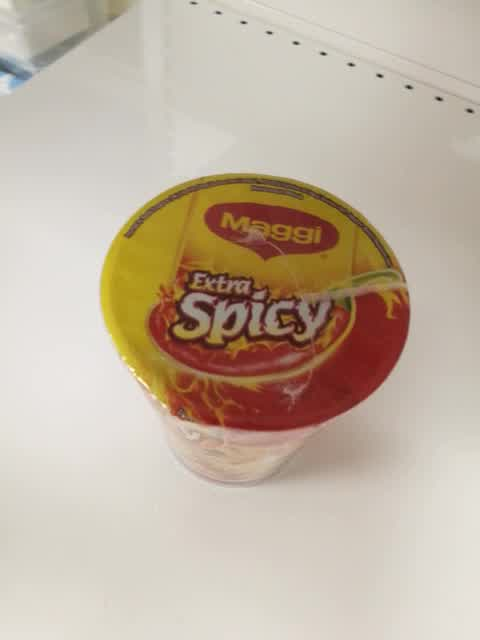maggi: (98, 172, 410, 488)
